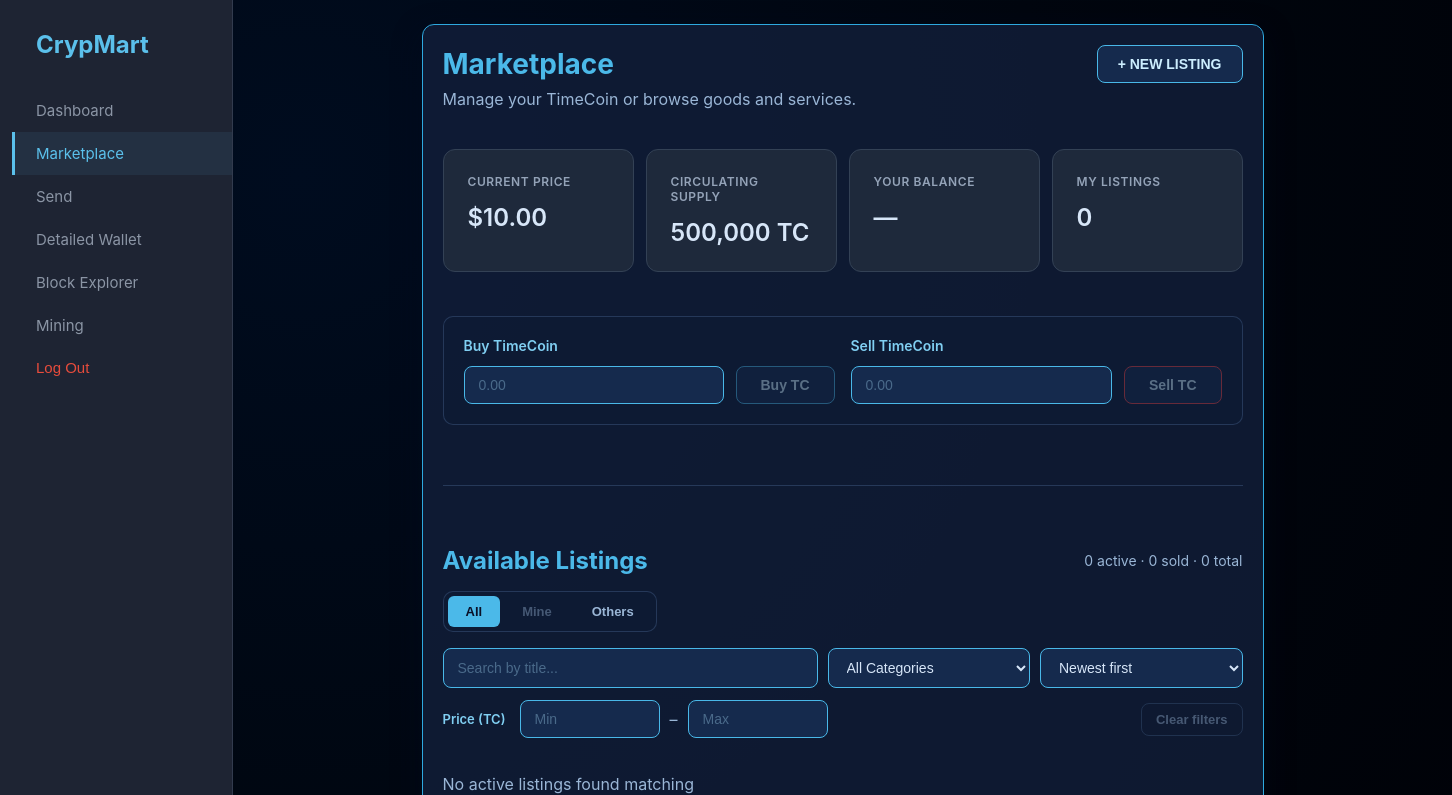
Test: Marketplace — buy form interactions › shows estimated cost preview as user types
Type "5" into the number field with test id "amount-input" showing "Buy TimeCoin" at (594, 385), box [464,366,724,404]
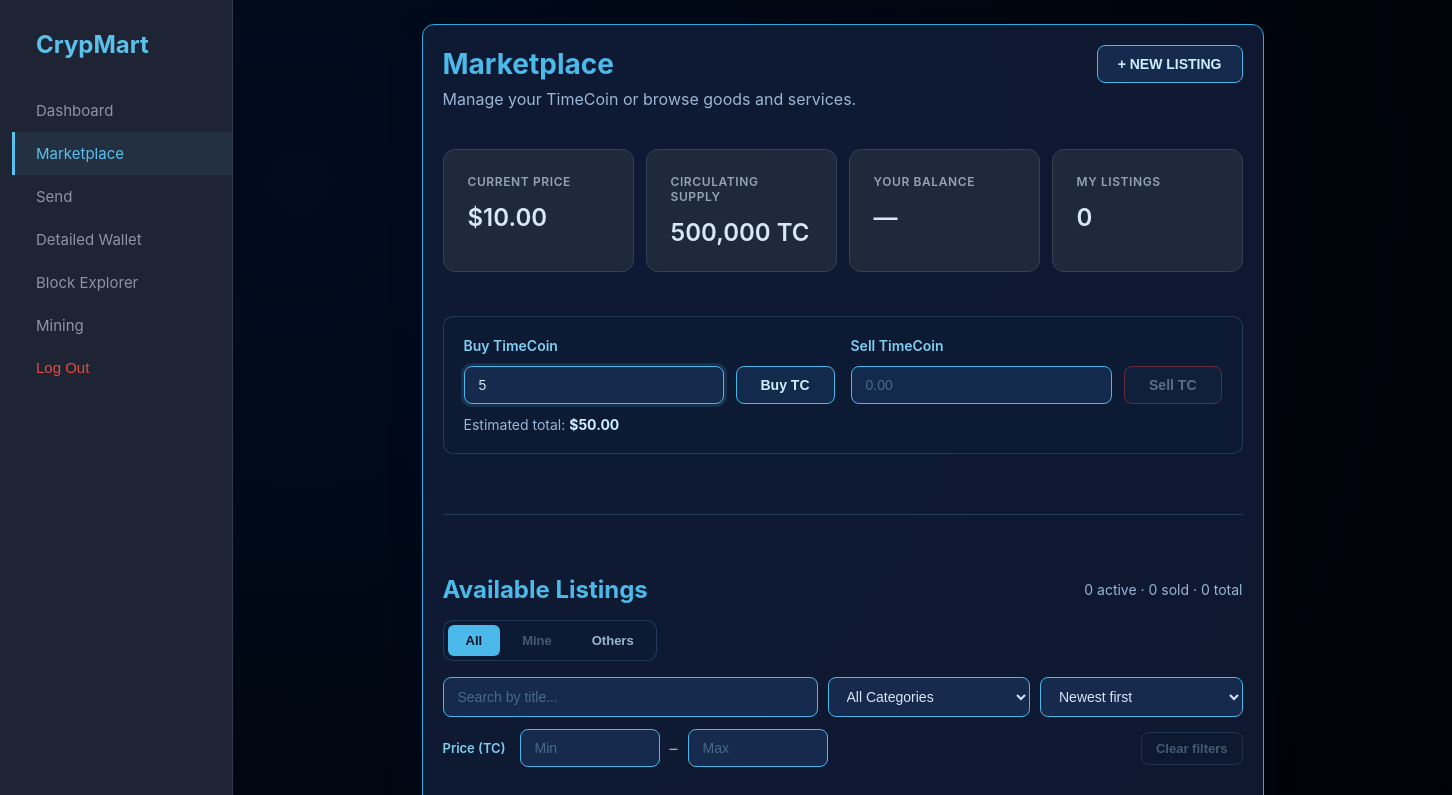
expect the element with test id "cost-preview" shows "$50.00": met, box [464,416,619,433]
